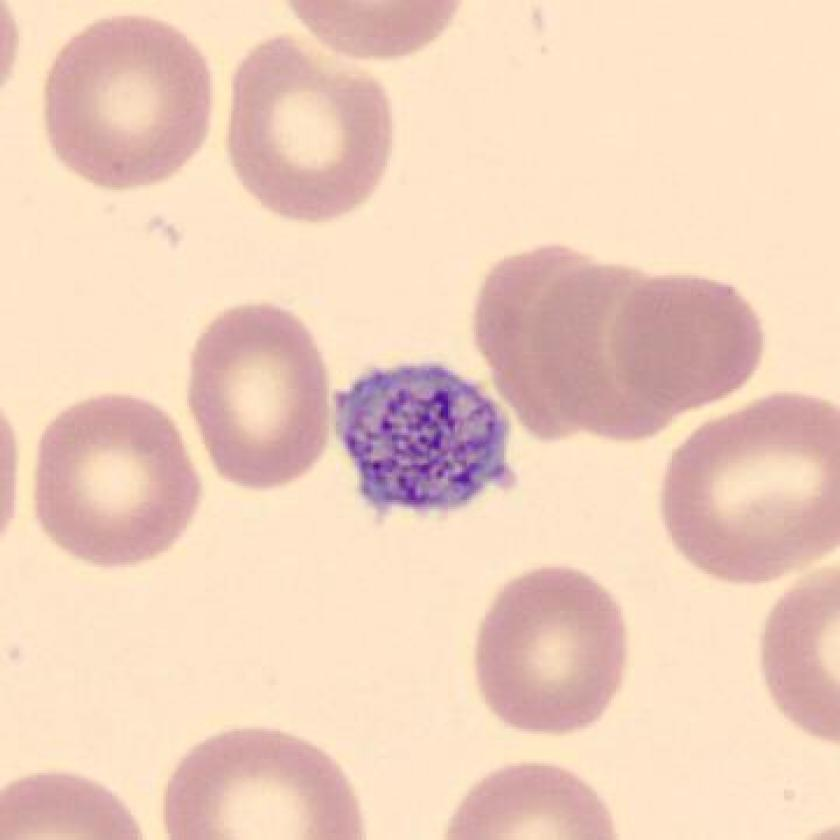platelets: (323, 362, 526, 522)
